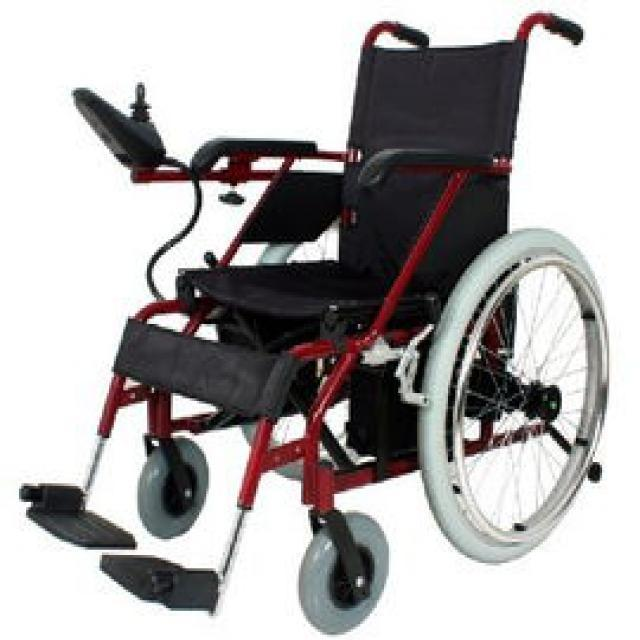wheelchair: (2, 11, 616, 634)
